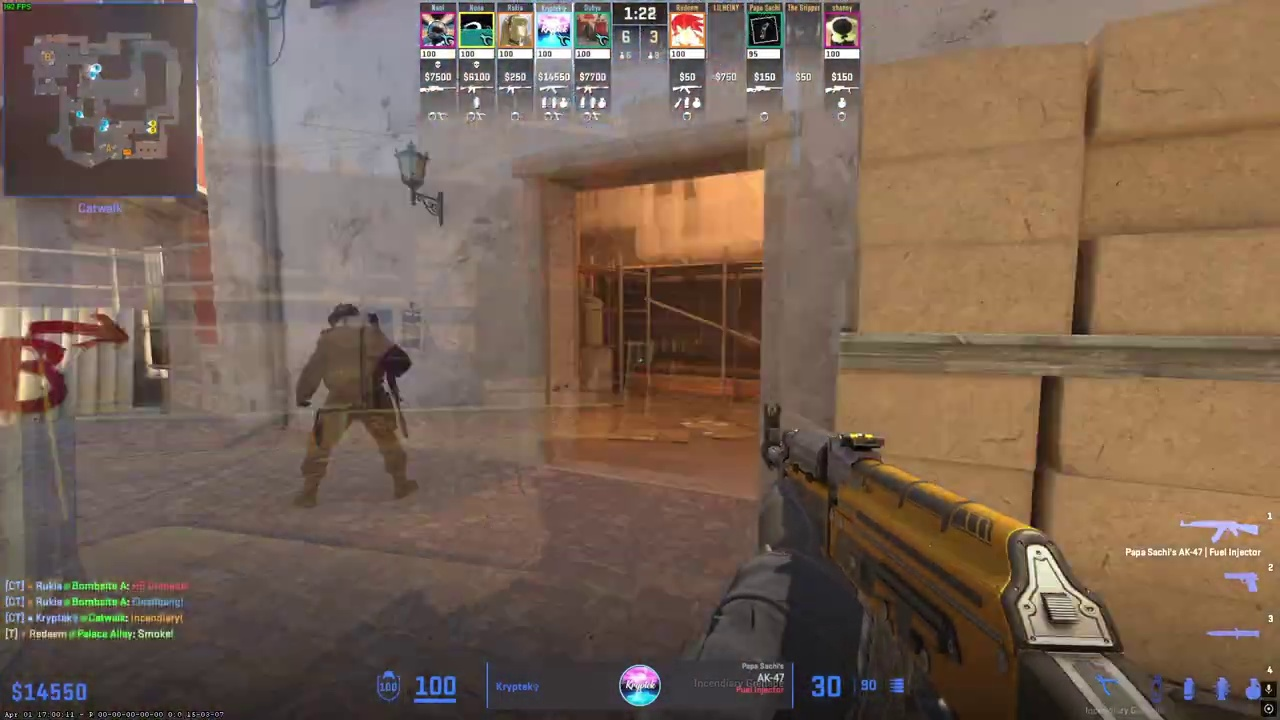CT: (293, 302, 415, 506)
